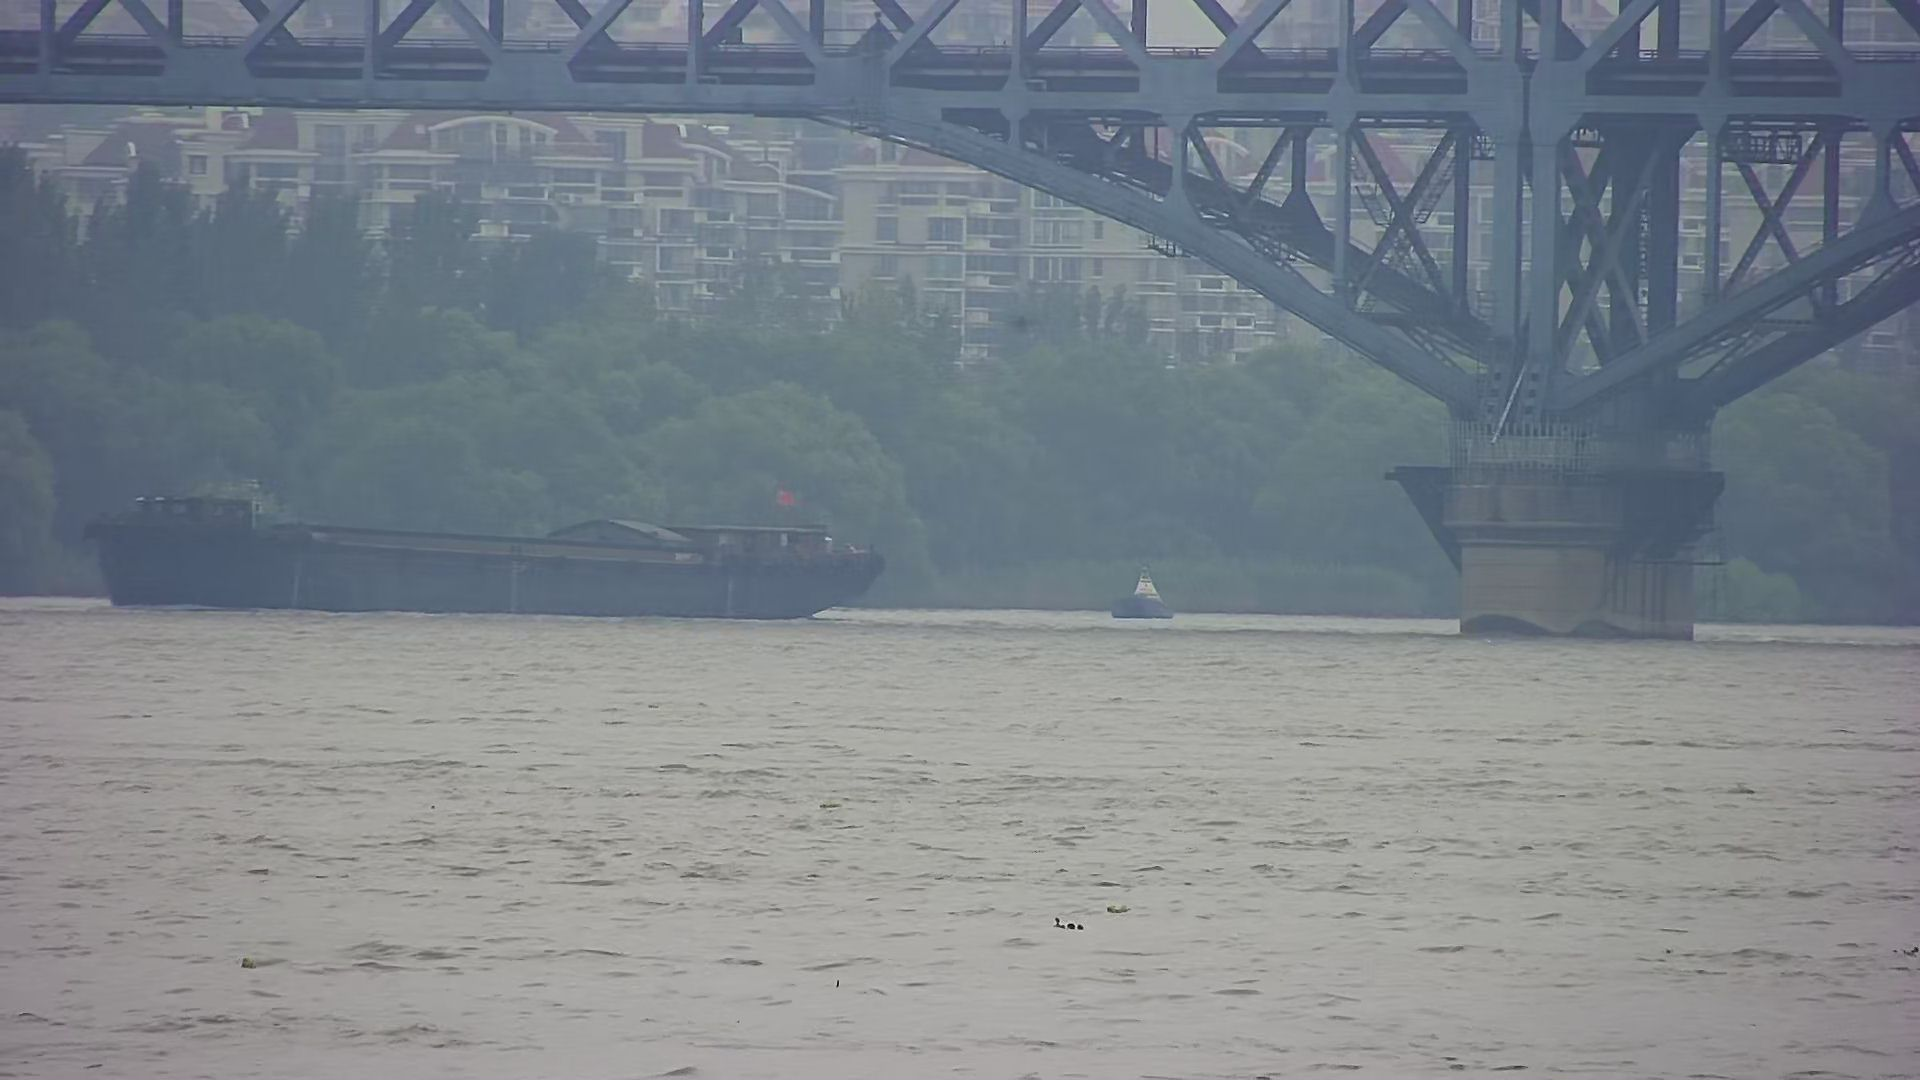boat: (1102, 566, 1201, 632)
bridge: (1, 1, 1913, 646)
ship: (65, 476, 905, 634)
